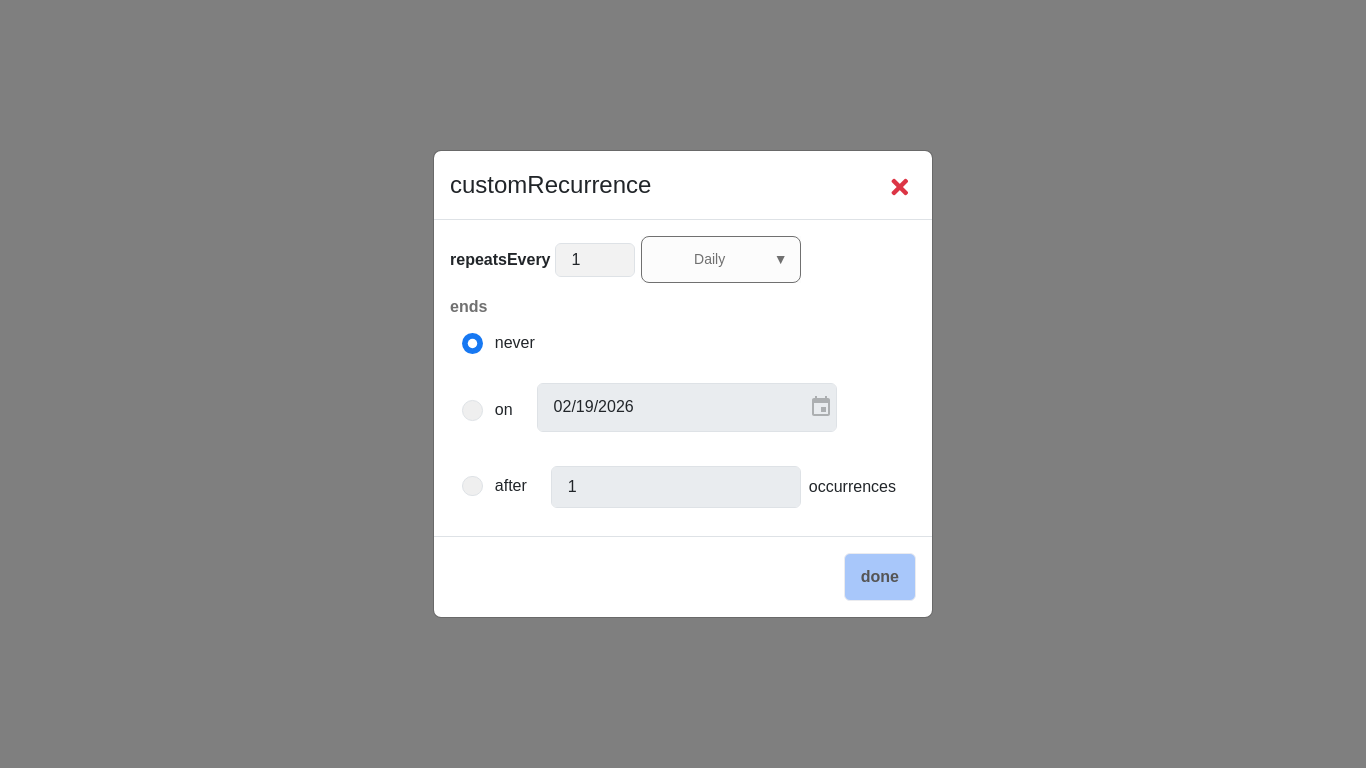
CustomRecurrenceModal › updates local count when yearly frequency is selected
Click the button with test id "customRecurrenceFrequencyDropdown-toggle" at (720, 260), box [640, 236, 800, 283]
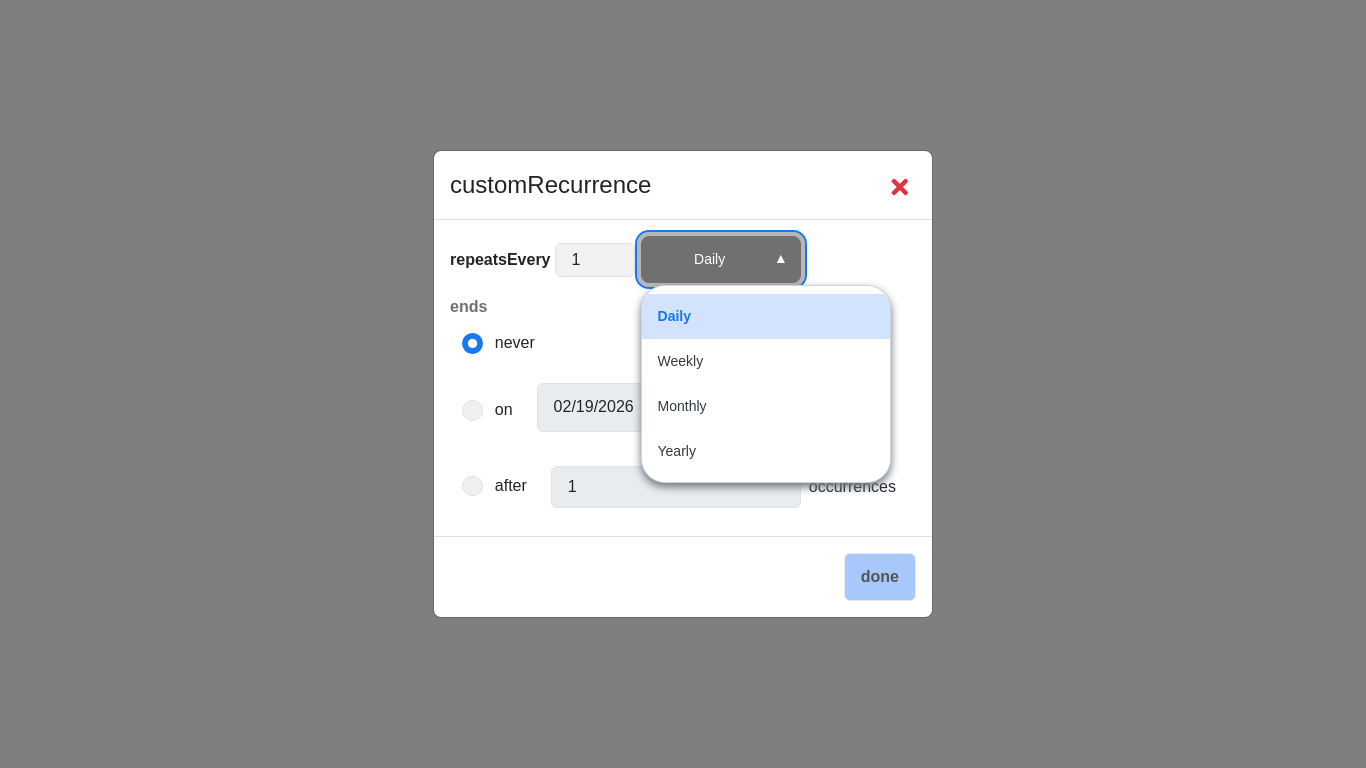
Click the option with test id "customRecurrenceFrequencyDropdown-item-YEARLY" at (677, 451), box [658, 443, 696, 459]
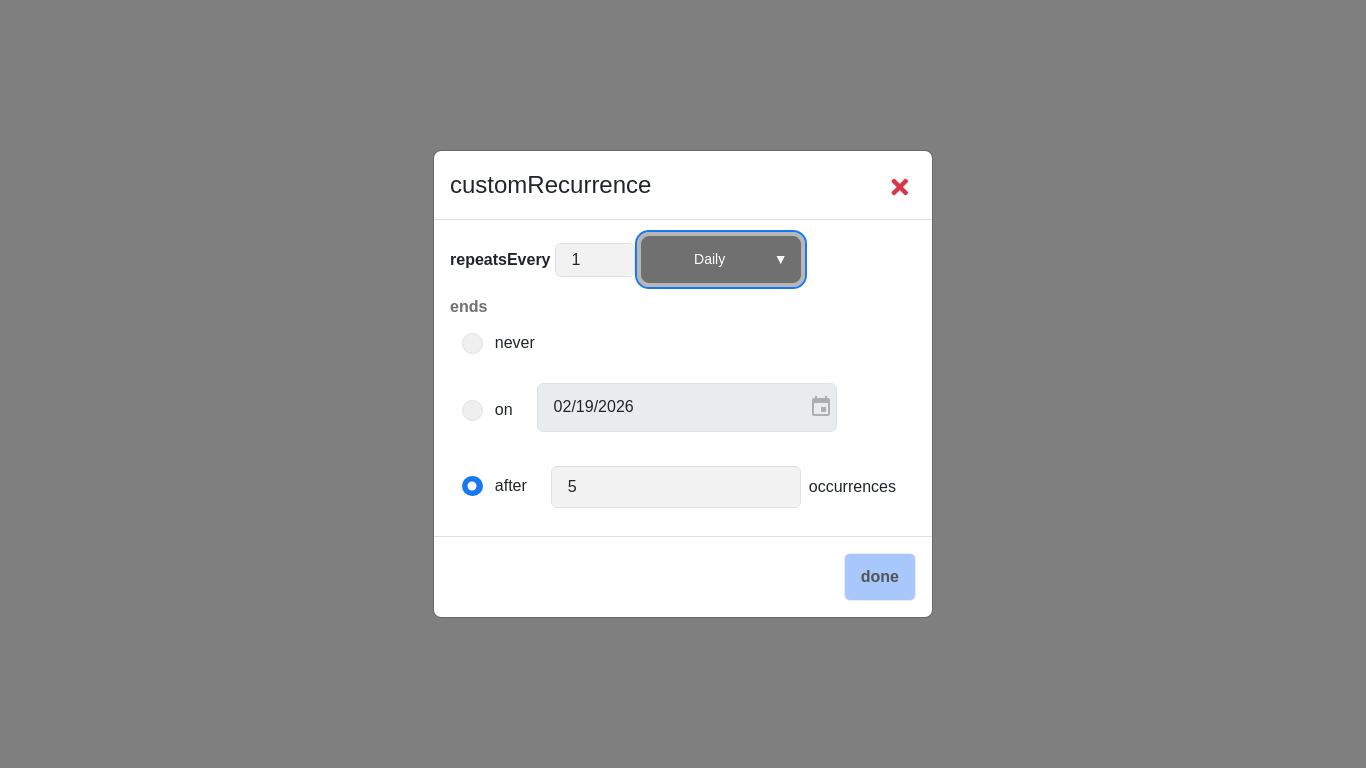
Now the number field with test id "customRecurrenceCountInput" holds "5", box [551, 466, 801, 508]
